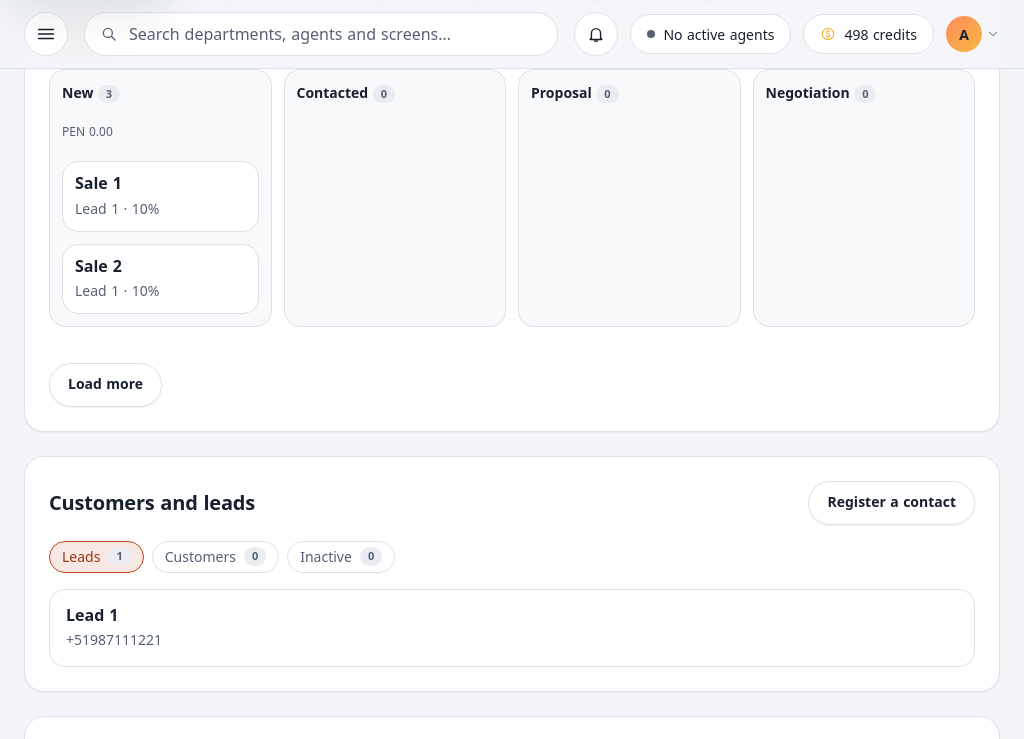
Test case: Comercial's lists, one page at a time (ADR-0061) › counts each board column from the totals, and loads more opportunities into it
(page scrolled)
Check: the text "Sale 1" is shown, box [75,172,122,194]
Check: the heading "New 3" is shown, box [62,83,120,103]
Click the button "Load more": (106, 385) [49,363,162,407]
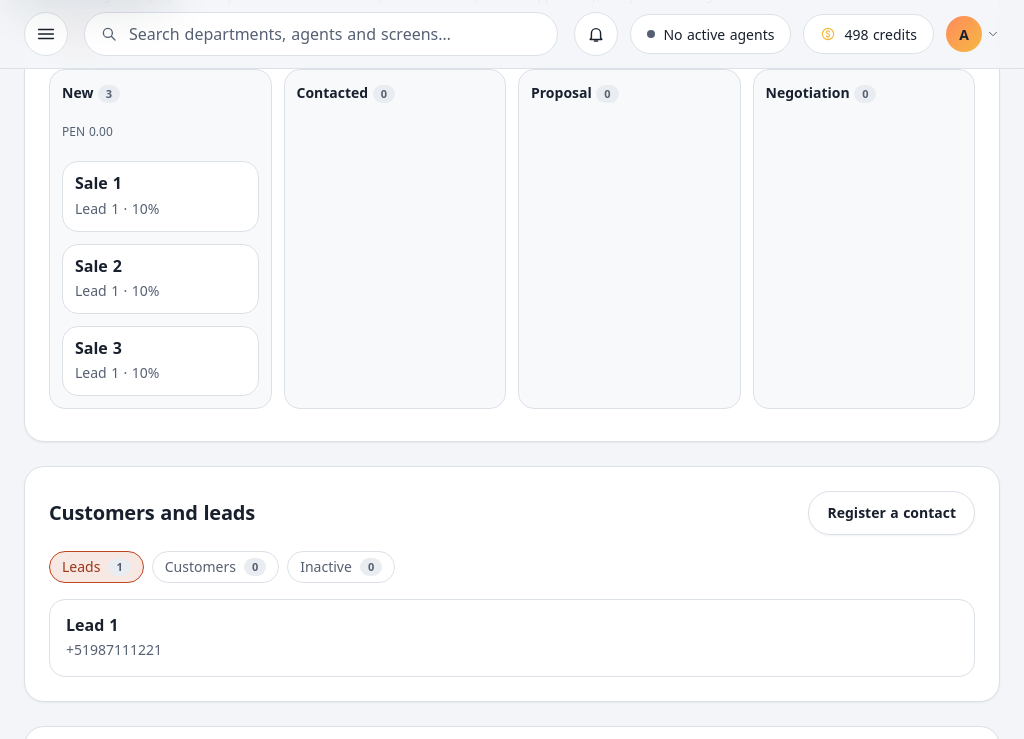
Check: the text "Sale 3" is shown, box [75,337,122,359]
Check: the button "Load more" is gone
